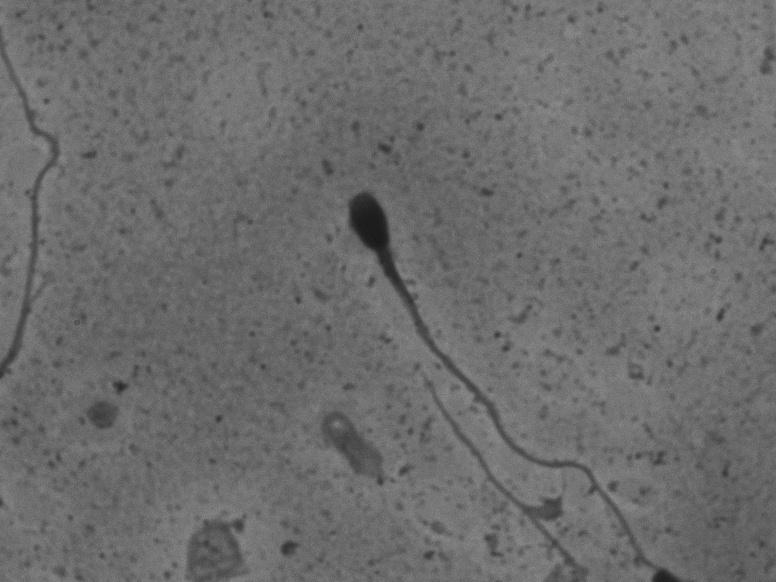Normal: (325, 178, 663, 571)
